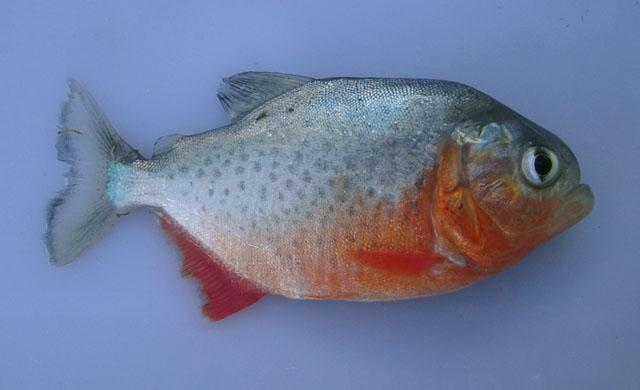Mulut: (532, 148, 616, 244)
Sirip Anal: (152, 197, 272, 331)
Sirip Dada: (334, 236, 466, 298)
Sirip Ekor: (27, 62, 145, 288)
Sirip Perut: (297, 281, 371, 315)
Sirip Punggung: (146, 57, 334, 171)
